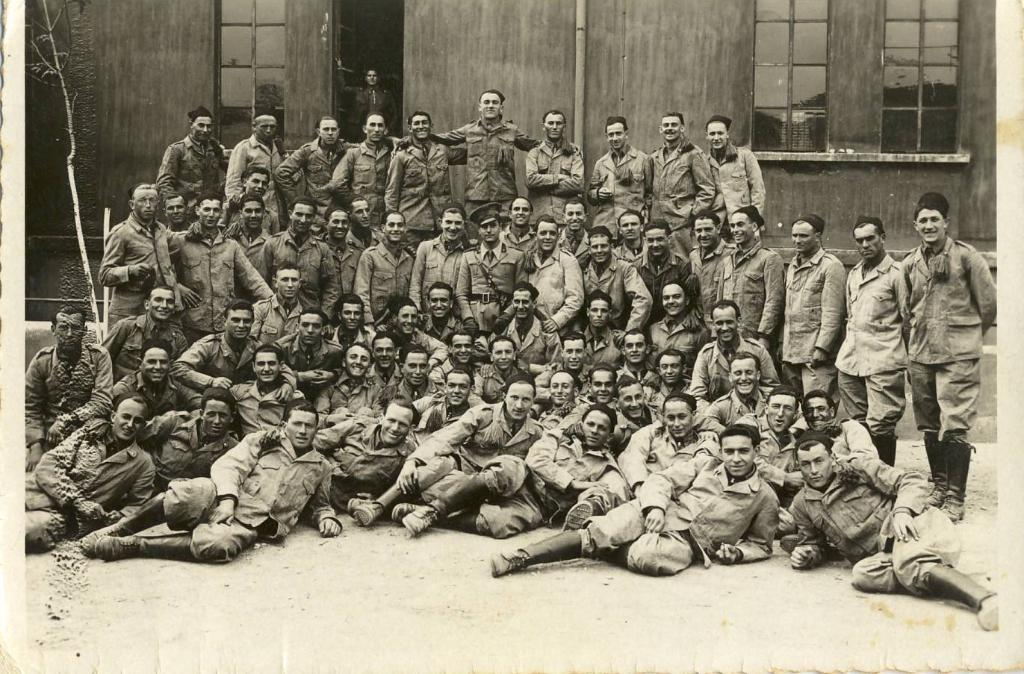Person: (25, 54, 997, 633)
